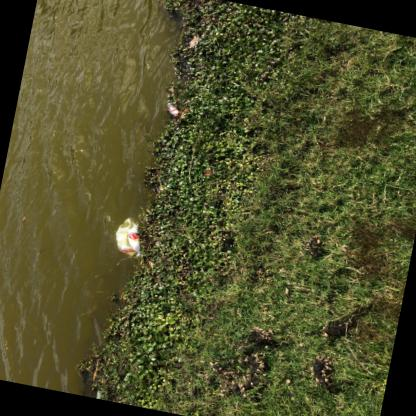Plastic: (115, 217, 140, 256), (167, 100, 178, 116), (174, 113, 178, 116)
Waste: (96, 389, 102, 399)
